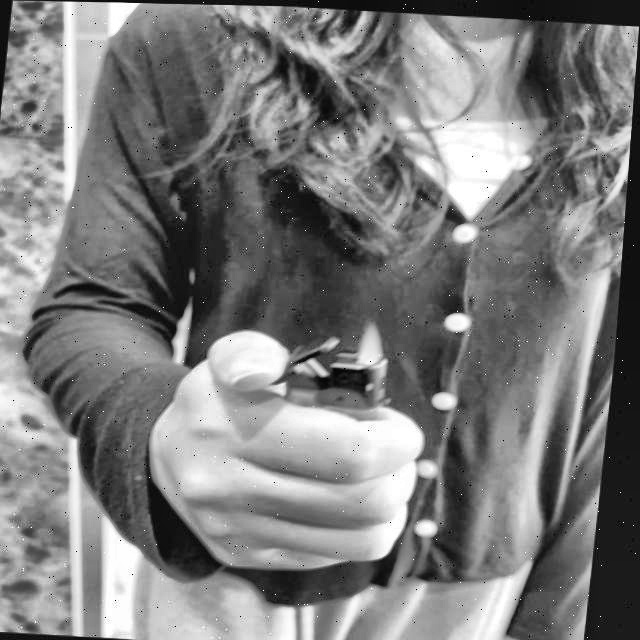Fire: (361, 320, 392, 363)
